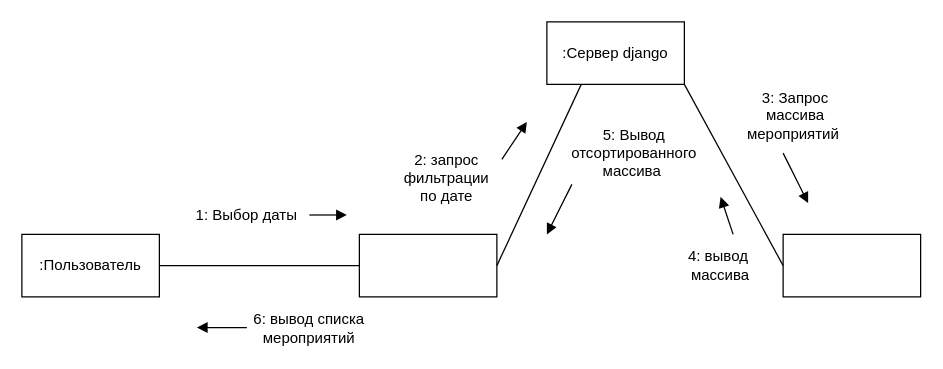
Image size: 943x369. Some labels were removed from this diagram. The centre of each missing label's shape, as x and y in pixels:
":БД postgre" goes at [851,265].
":ГлавныйЭкран" goes at [427,265].
